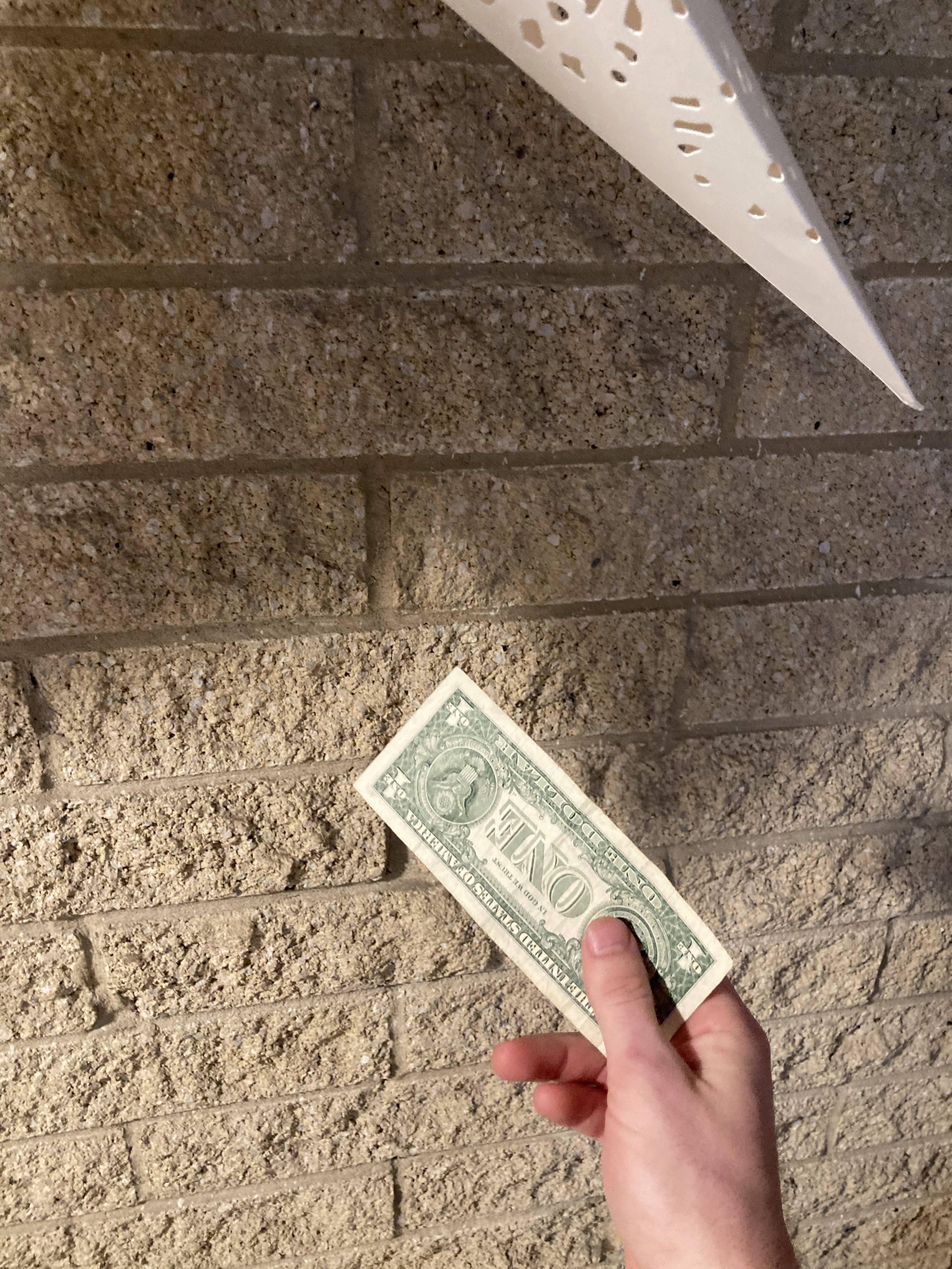one-back: (350, 665, 737, 1085)
